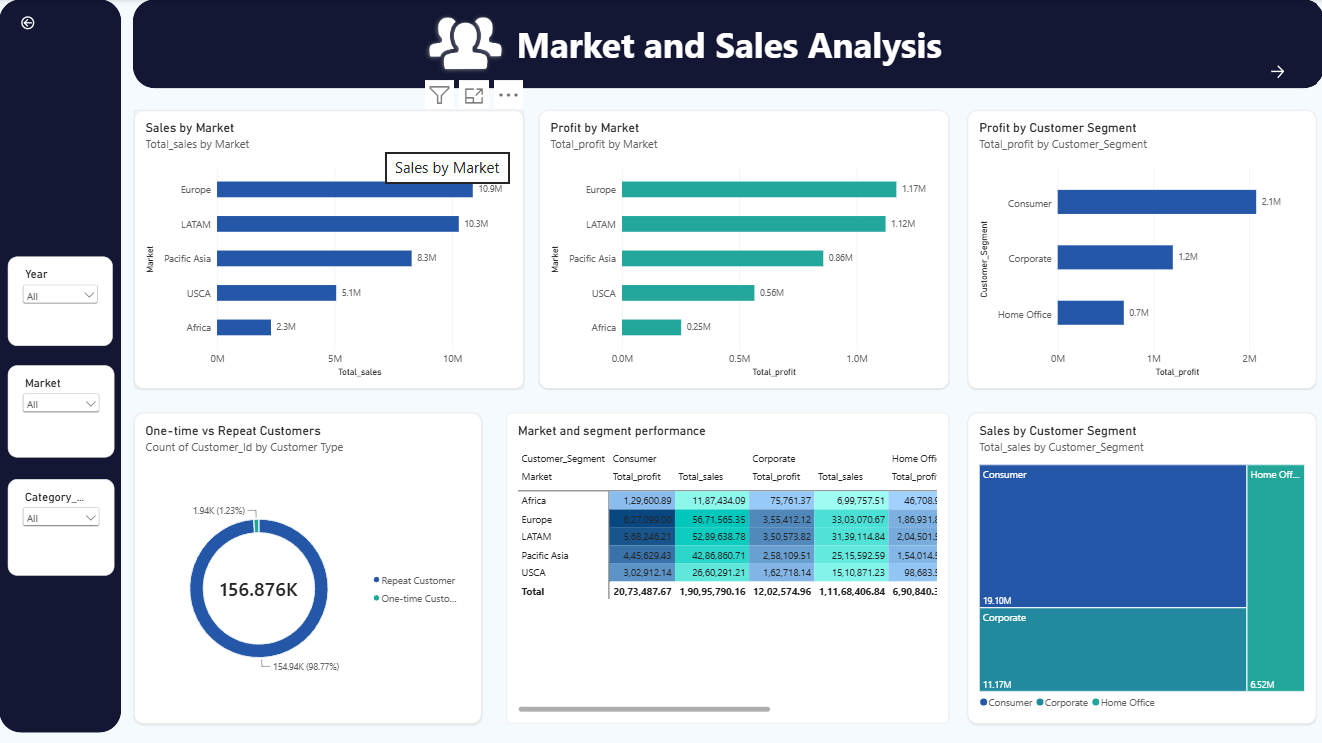

The page's visual inventory and layout, read from the dashboard file:
{"tool":"powerbi","page":{"name":"Market and Sales Analysis","canvas":[1920,1080],"ordinal":3},"visuals":[{"type":"clusteredBarChart","title":"Profit by Market","fields":{"Category":["dataco_data.Market"],"Y":["dataco_data.Total_profit"]},"box":[781.8,161.1,593.6,403.6],"z":0},{"type":"clusteredBarChart","title":"Profit by Customer Segment","fields":{"Category":["dataco_data.Customer_Segment"],"Y":["dataco_data.Total_profit"]},"box":[1402.5,161.1,504.9,403.6],"z":1000},{"type":"shape","box":[193.5,0,1726.9,129.7],"z":2000},{"type":"shape","box":[0,0,177,1062.1],"z":3000},{"type":"slicer","fields":{"Values":["dataco_data.order_date_DateOrders.Variation.Date Hierarchy.Year"]},"box":[12.3,372.6,152.3,129.7],"z":4000},{"type":"slicer","fields":{"Values":["dataco_data.Market"]},"box":[12.3,531,154.4,133.8],"z":5000},{"type":"slicer","fields":{"Values":["dataco_data.Category_Name"]},"box":[12.3,695.7,154.4,140],"z":6000},{"type":"donutChart","title":"One-time vs Repeat Customers","fields":{"Category":["dataco_data.Customer Type"],"Y":["CountNonNull(dataco_data.Customer_Id)"]},"box":[195.4,599,503.1,450.6],"z":7000},{"type":"clusteredBarChart","title":"Sales by Market","fields":{"Category":["dataco_data.Market"],"Y":["dataco_data.Total_sales"]},"box":[195.4,161.1,564.6,403.6],"z":8000},{"type":"treemap","title":"Sales by Customer Segment","fields":{"Group":["dataco_data.Customer_Segment"],"Values":["dataco_data.Total_sales"]},"box":[1402.5,599,504.9,450.6],"z":9000},{"type":"pivotTable","title":"Market and segment performance","fields":{"Columns":["dataco_data.Customer_Segment"],"Rows":["dataco_data.Market"],"Values":["dataco_data.Total_profit","dataco_data.Total_sales"]},"box":[734.7,599,640.6,450.6],"z":10000},{"type":"image","box":[613.5,12.7,121.2,105],"z":11000},{"type":"actionButton","box":[1800.6,85.1,100,40],"z":11001},{"type":"actionButton","box":[10,10,61.5,47.1],"z":11002}]}

Visuals, with their boxes on the page's 1920x1080 design canvas (x1, y1, x2, y2). These are canvas units, not pixel positions in the 1322x743 screenshot, which may show the page scaled, cropped or inside an application window:
"Profit by Market" clusteredBarChart: (x1=782, y1=161, x2=1375, y2=565)
"Profit by Customer Segment" clusteredBarChart: (x1=1402, y1=161, x2=1907, y2=565)
shape: (x1=194, y1=0, x2=1920, y2=130)
shape: (x1=0, y1=0, x2=177, y2=1062)
slicer - dataco_data.order_date_DateOrders.Variation.Date Hierarchy.Year: (x1=12, y1=373, x2=165, y2=502)
slicer - dataco_data.Market: (x1=12, y1=531, x2=167, y2=665)
slicer - dataco_data.Category_Name: (x1=12, y1=696, x2=167, y2=836)
"One-time vs Repeat Customers" donutChart: (x1=195, y1=599, x2=698, y2=1050)
"Sales by Market" clusteredBarChart: (x1=195, y1=161, x2=760, y2=565)
"Sales by Customer Segment" treemap: (x1=1402, y1=599, x2=1907, y2=1050)
"Market and segment performance" pivotTable: (x1=735, y1=599, x2=1375, y2=1050)
image: (x1=614, y1=13, x2=735, y2=118)
actionButton: (x1=1801, y1=85, x2=1901, y2=125)
actionButton: (x1=10, y1=10, x2=72, y2=57)
